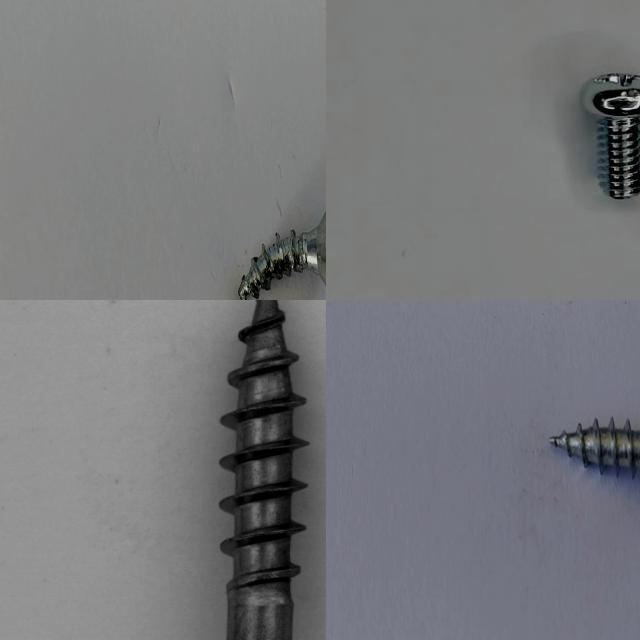Screw: (125, 300, 326, 640), (239, 210, 326, 300), (584, 74, 640, 200), (550, 417, 640, 477)
